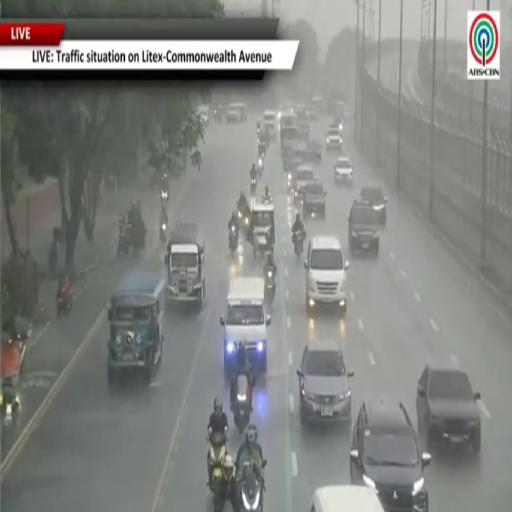car: (350, 399, 431, 511), (417, 365, 480, 453), (297, 341, 353, 425), (304, 236, 349, 314), (310, 486, 384, 511), (349, 200, 380, 255), (360, 187, 387, 225), (291, 165, 315, 203), (303, 181, 326, 219), (294, 139, 322, 164), (283, 152, 307, 181), (334, 157, 354, 186), (262, 111, 277, 140), (227, 103, 247, 123), (326, 127, 342, 152), (312, 95, 326, 113), (277, 104, 292, 120), (198, 105, 209, 125), (330, 116, 344, 131), (307, 105, 318, 121)
jeepney: (108, 271, 165, 385), (165, 221, 205, 307), (252, 203, 275, 258)
motorcycle: (0, 338, 22, 421), (207, 429, 227, 511), (231, 374, 253, 434), (240, 461, 266, 511), (15, 317, 32, 371), (0, 376, 19, 421), (57, 286, 74, 317), (117, 224, 131, 257), (265, 268, 275, 306), (237, 204, 250, 232), (48, 240, 58, 275), (292, 231, 305, 257), (229, 226, 238, 255), (159, 222, 167, 244), (214, 107, 221, 122), (161, 189, 169, 202), (251, 178, 257, 195), (258, 157, 263, 177), (259, 144, 266, 158), (261, 196, 272, 204), (257, 126, 261, 138)
